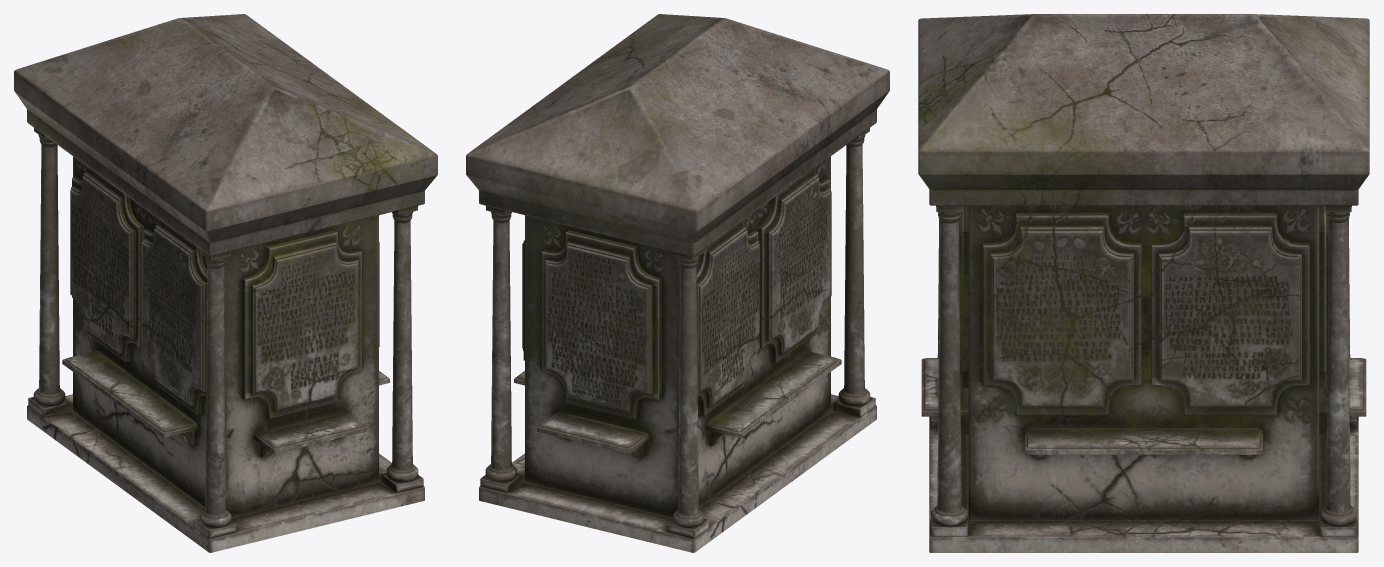
File: SM_crypt_05.fbx
The picture shows the model from 3 angles, left to right: view 1: azimuth 30°, elevation 25°; view 2: azimuth 150°, elevation 25°; view 3: azimuth 270°, elevation 25°; orthographic projection. The views are drawn at different scales.
Parts seen in each view (by area): view 1: SM_crypt_05; view 2: SM_crypt_05; view 3: SM_crypt_05.
Part boxes in pixels (x1,y1,x2,y2): SM_crypt_05: (14, 14, 437, 552); SM_crypt_05: (466, 14, 889, 552); SM_crypt_05: (918, 14, 1369, 552).
Size of the model in its own units: 161 by 271 by 232.
